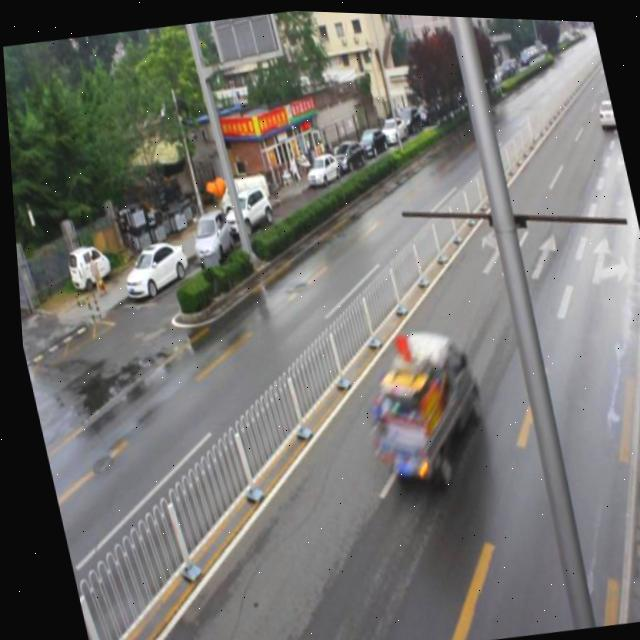bus: (346, 319, 494, 495)
car: (591, 93, 616, 128)
